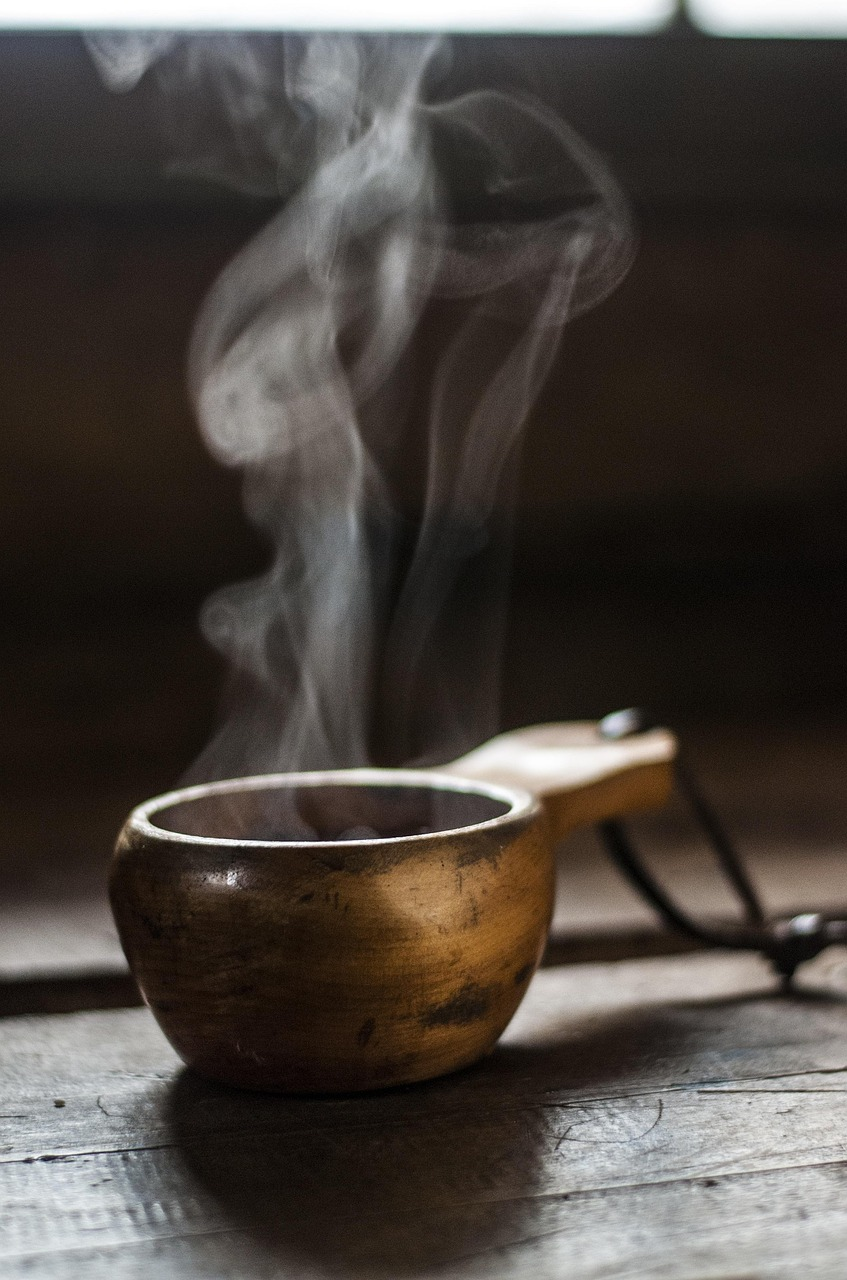mug: (65, 580, 698, 1205)
